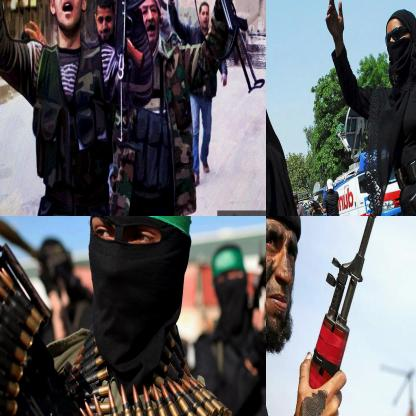rifle: (0, 216, 117, 415), (297, 216, 384, 415), (182, 0, 265, 95), (110, 0, 160, 71)
